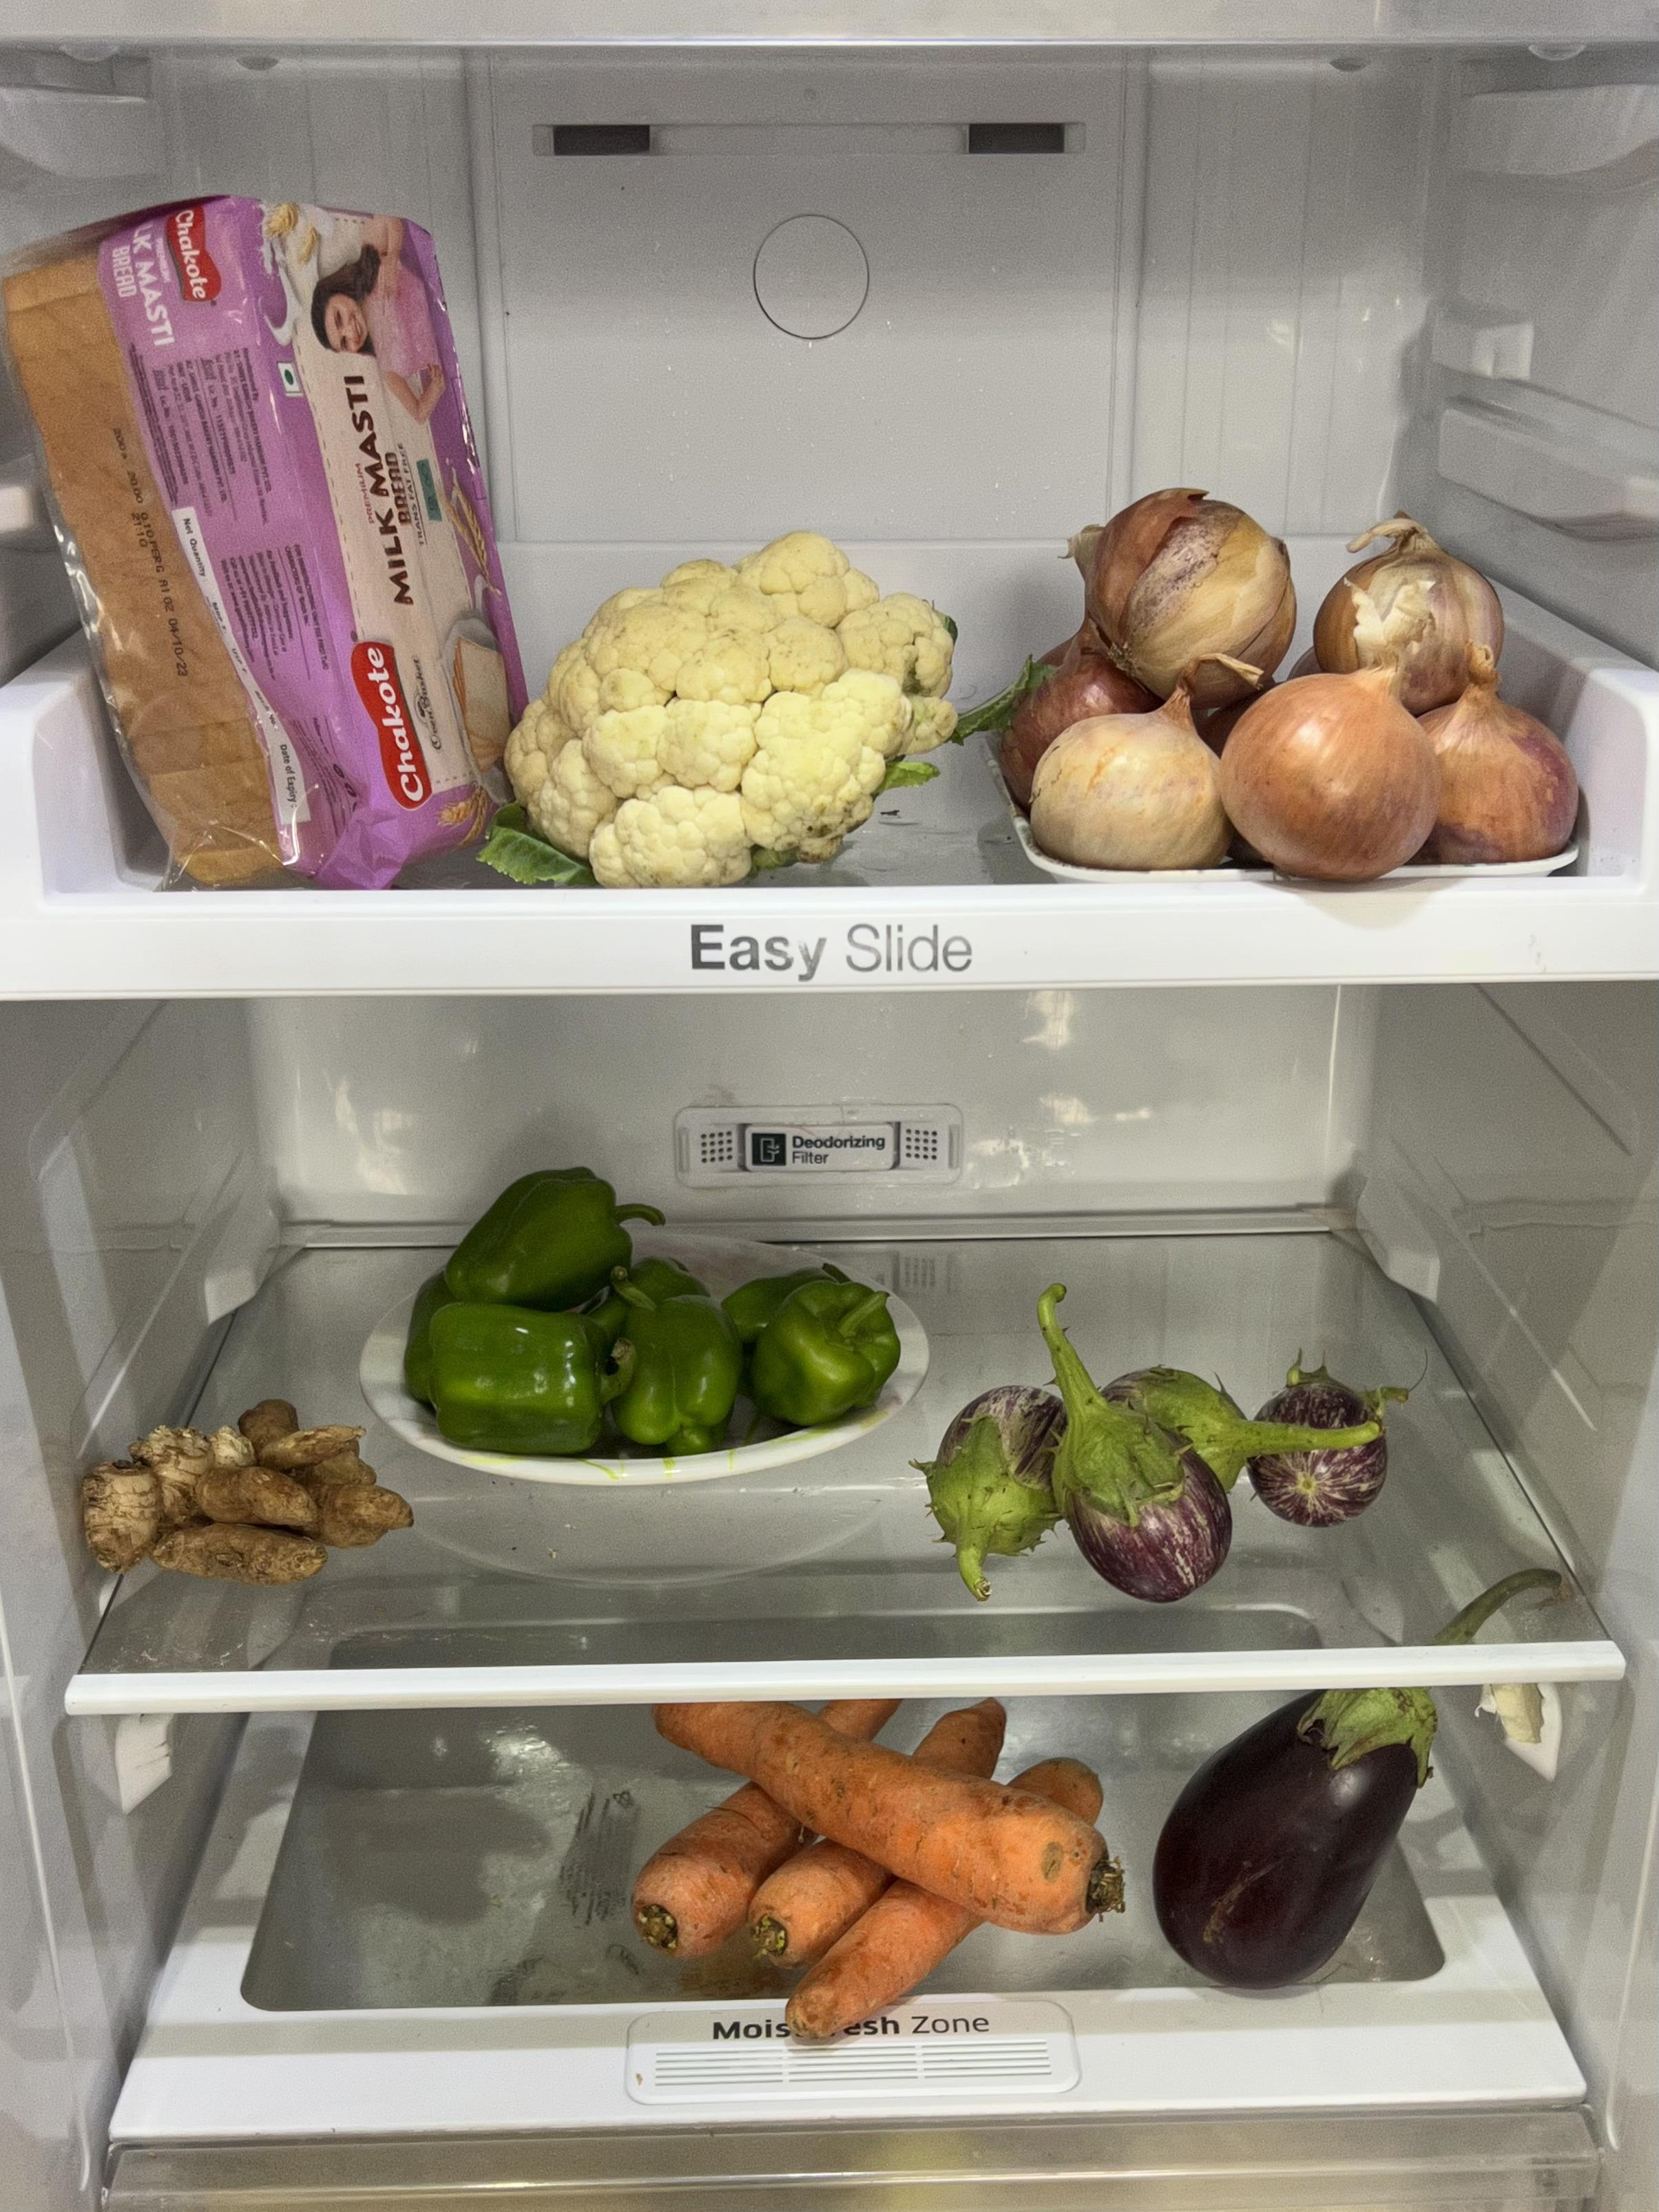bread: (2, 176, 521, 880)
bringal: (941, 1343, 1452, 1604), (1145, 1656, 1506, 2024)
capsicum: (397, 1157, 943, 1451)
carrots: (601, 1660, 1134, 2038)
cauliflower: (525, 545, 958, 883)
ginger: (68, 1372, 413, 1601)
onion: (985, 488, 1593, 899)
